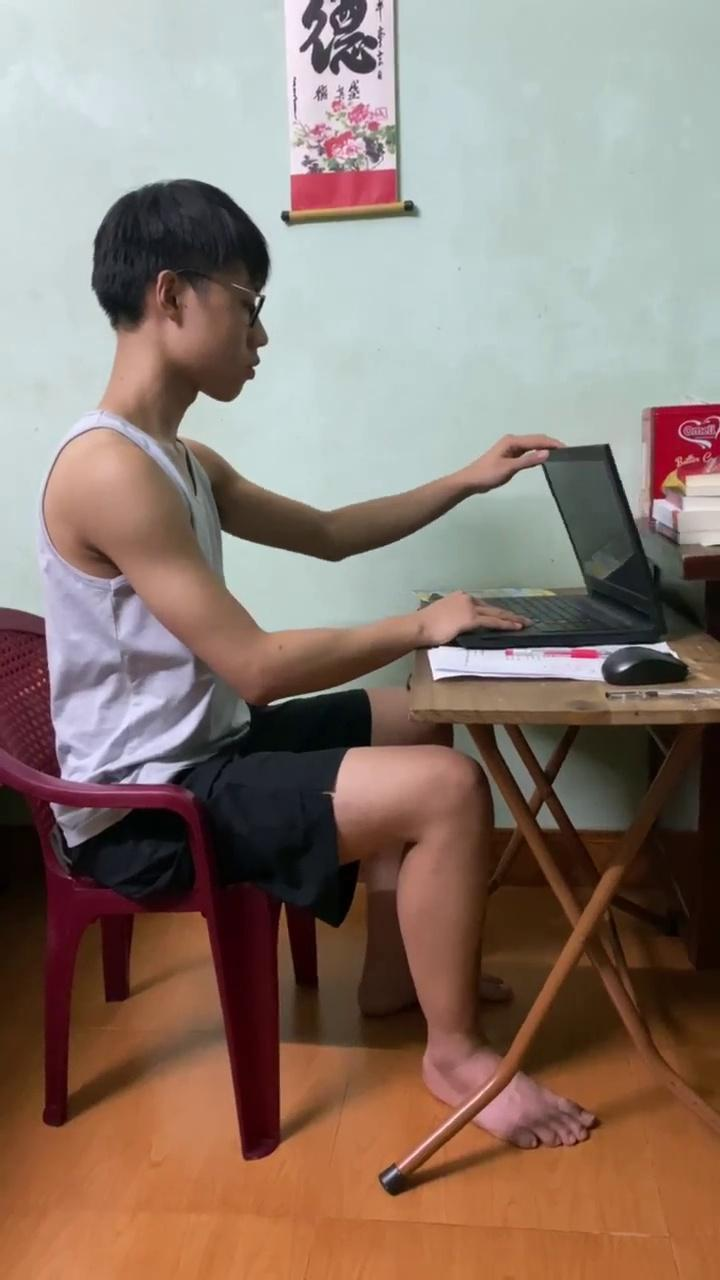GoodPosture: (41, 179, 558, 1105)
